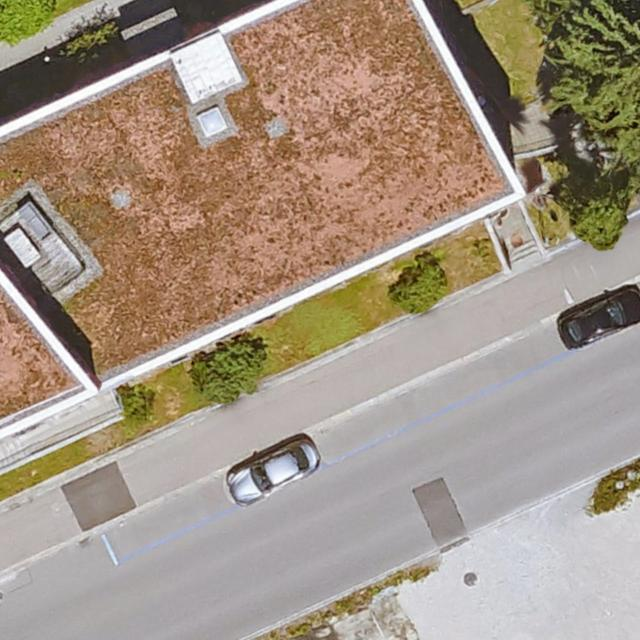tree: (554, 0, 640, 173), (190, 333, 265, 404), (573, 184, 629, 251), (394, 260, 447, 315), (116, 385, 154, 423)
